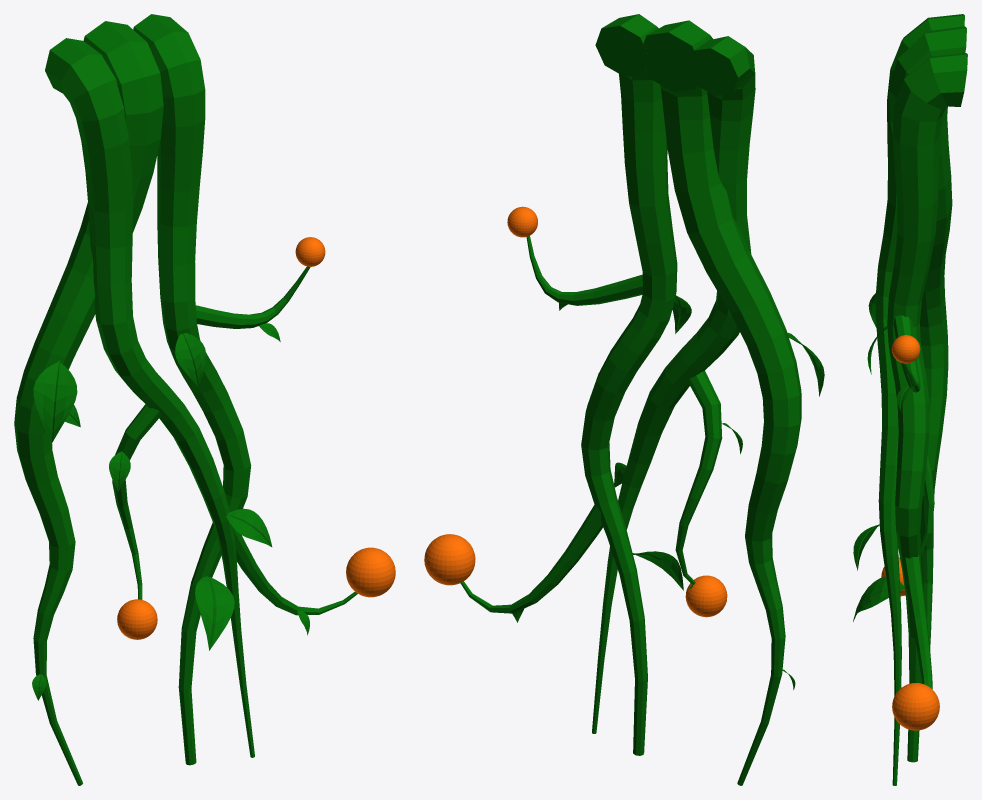
Rendered from Plante T 1_ mesh.fbx.
The picture shows the model from 3 angles, left to right: view 1: azimuth 30°, elevation 25°; view 2: azimuth 150°, elevation 25°; view 3: azimuth 270°, elevation 25°; orthographic projection. The views are drawn at different scales.
Parts seen in each view (by area): view 1: CourbeBézier.001; view 2: CourbeBézier.001; view 3: CourbeBézier.001.
Part boxes in pixels (x1,y1,x2,y2): CourbeBézier.001: (14, 14, 395, 785); CourbeBézier.001: (424, 14, 824, 785); CourbeBézier.001: (853, 14, 967, 785).
Size of the model in its own units: 362 by 687 by 101.
